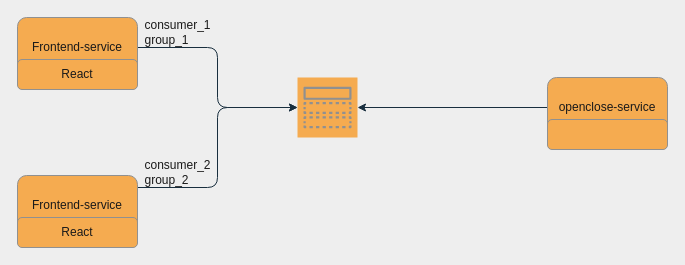
The diagram is 685 pixels wide and 265 high, and some of its shapes have lost their labels. Here are the shapes that lost their labels. From the top down, the centre of each, then its label:
At [327,107]: "restaurants_topic".
At [607,134]: "REST api".
